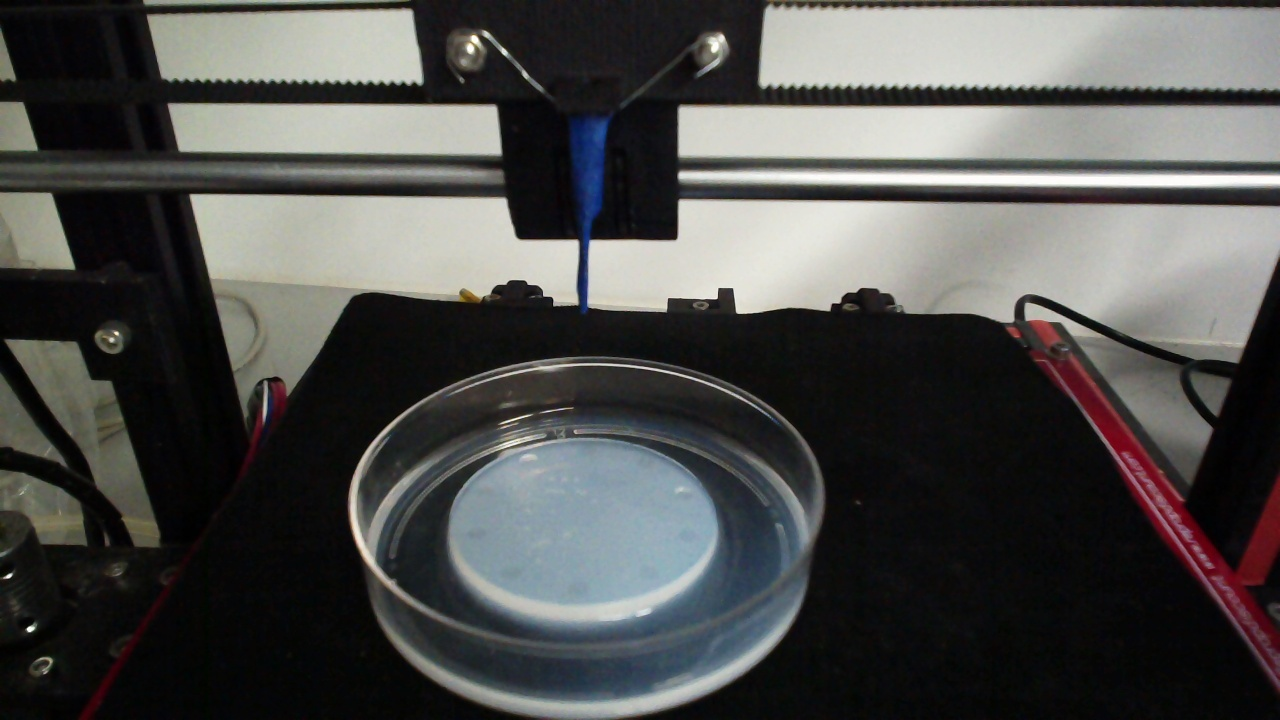groove: (564, 578, 592, 598), (495, 565, 526, 582), (636, 564, 661, 583), (572, 443, 600, 459), (633, 455, 657, 470), (465, 527, 488, 542), (677, 528, 698, 544), (674, 487, 695, 502), (473, 485, 497, 498), (519, 452, 539, 466)
needle: (568, 118, 606, 316)
